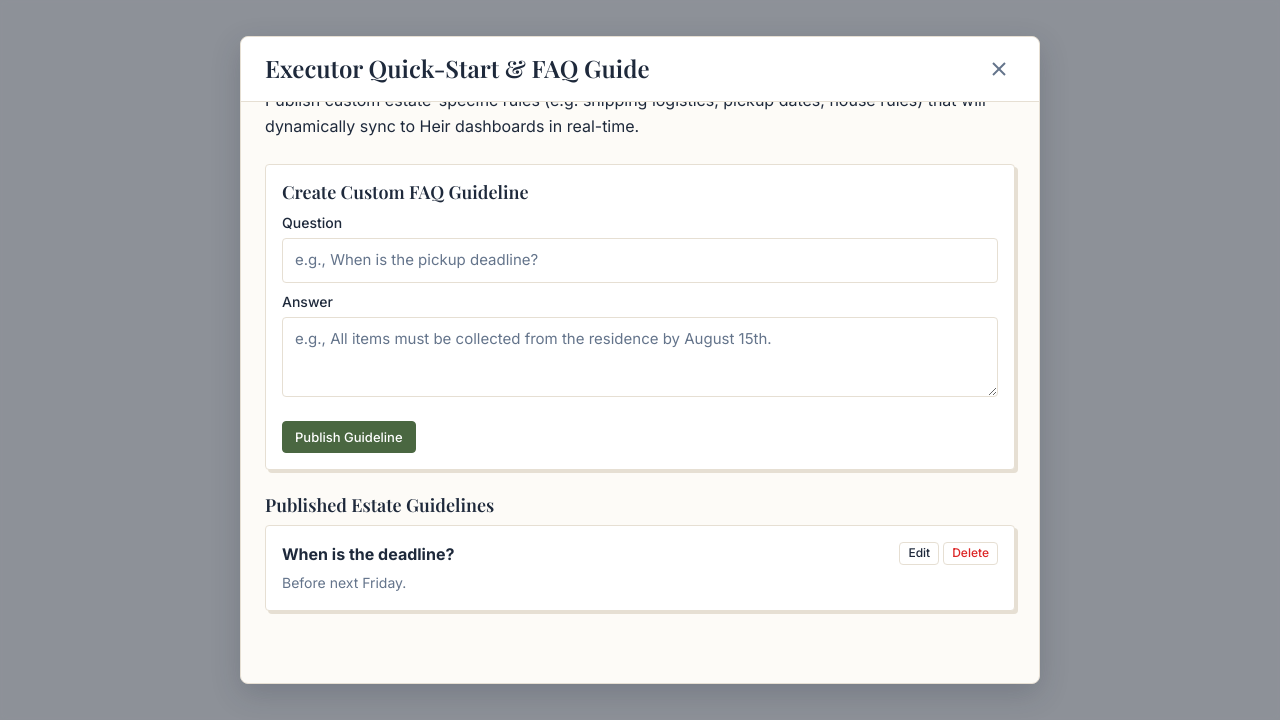
Test: AdminHelpPortal Component › allows editing an existing custom FAQ
(page scrolled)
Expected: the element with test id "faq-item-f1" is shown, top-left (265, 526), bottom-right (1015, 612)
// Click Edit button
Step 1. Click the button "Edit" → (919, 554), box top-left (899, 542), bottom-right (939, 565)
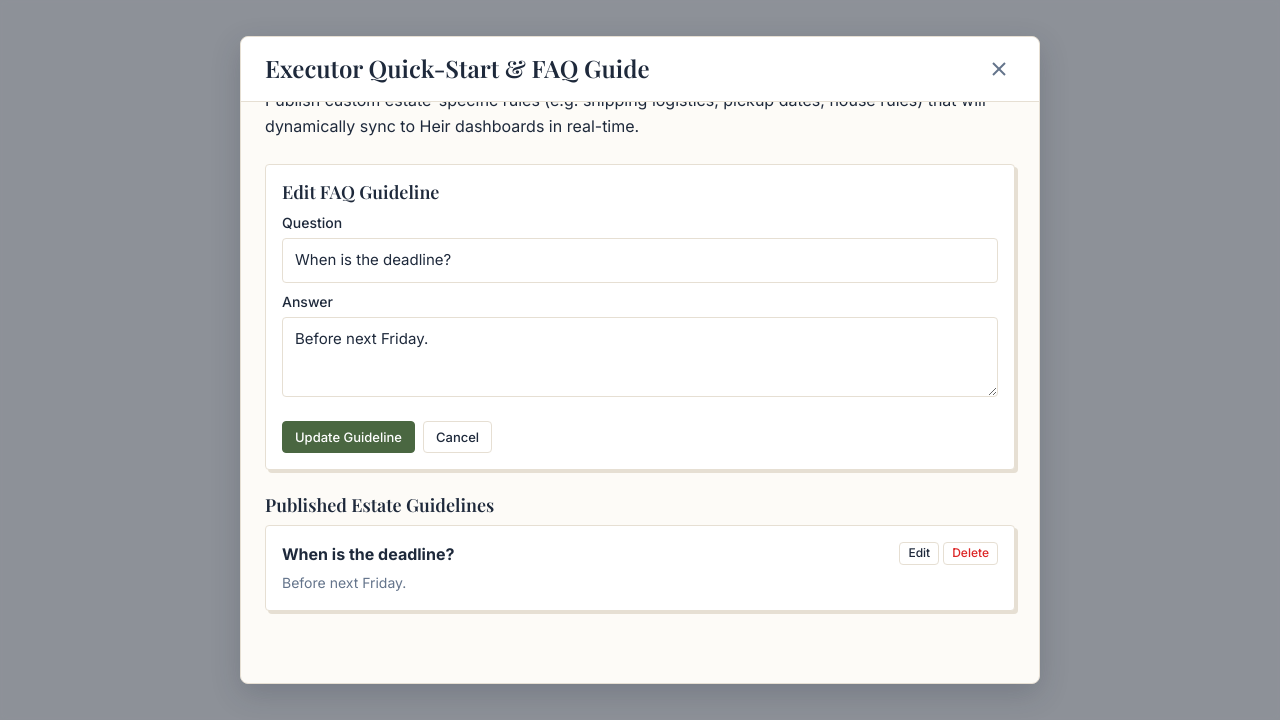
Now the field labelled "Question" holds "When is the deadline?"
Step 2. Replace the text in the field labelled "Question" with "Updated Question" → (640, 261), box top-left (282, 238), bottom-right (998, 283)
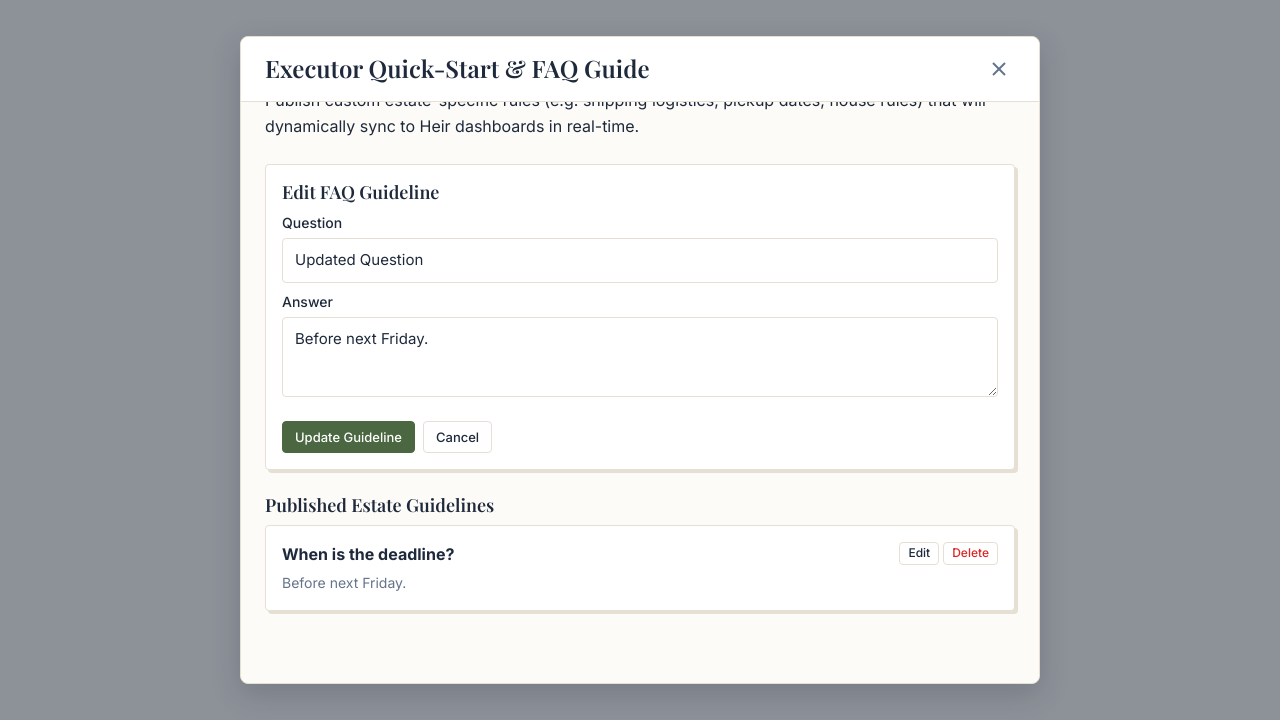
Step 3. Submit the form from the button "Update Guideline", box top-left (282, 421), bottom-right (415, 453)
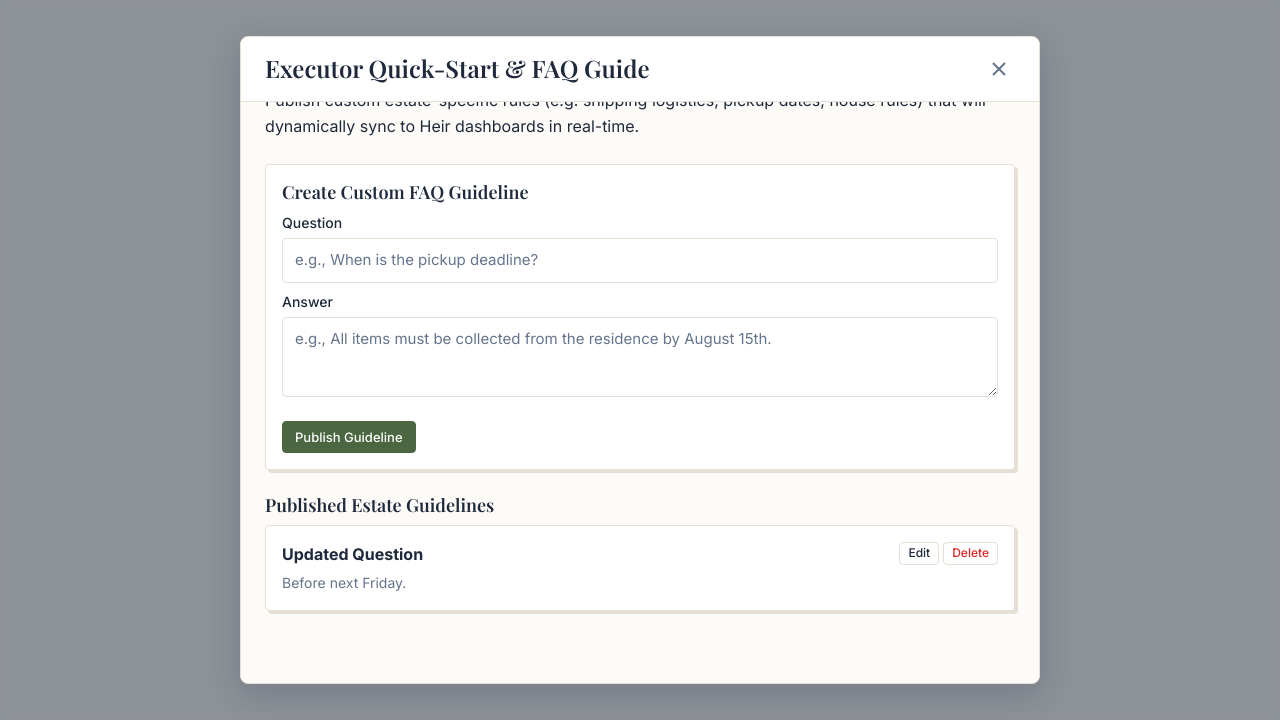
Now the text "Updated Question" is shown, box top-left (282, 544), bottom-right (423, 564)
